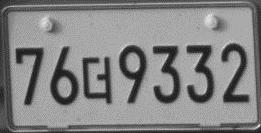2: (219, 41, 250, 104)
3: (150, 43, 181, 104), (184, 44, 215, 103)
6: (48, 45, 79, 106)
7: (13, 46, 46, 106)
9: (117, 43, 148, 104)
더: (81, 54, 112, 105)
